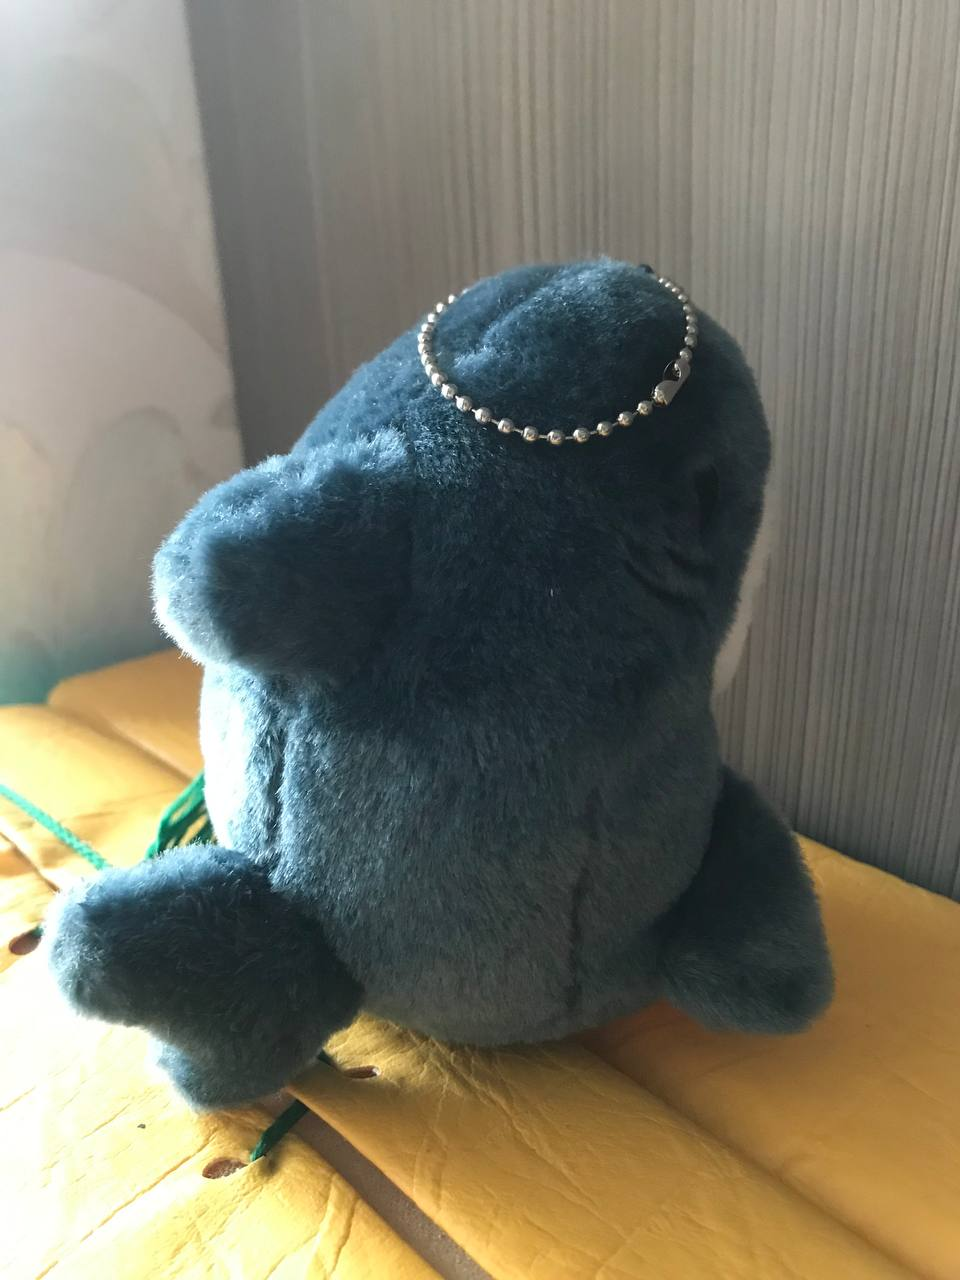cat_shark: (46, 257, 839, 1110)
